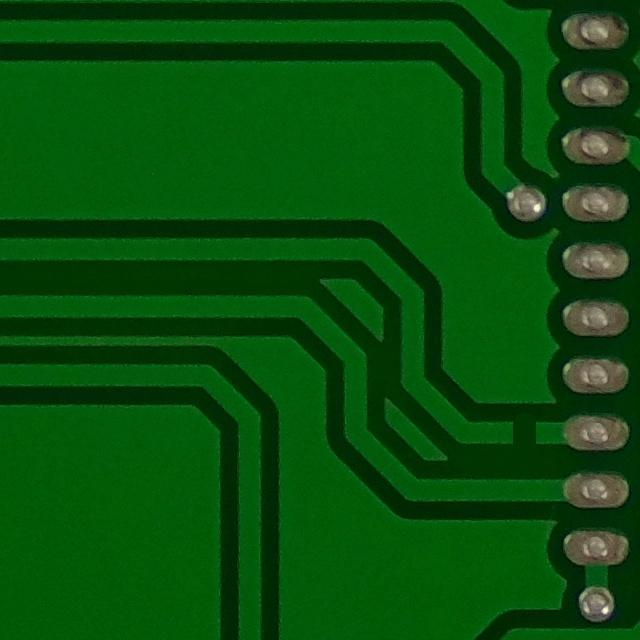open_circuit: (495, 406, 552, 458)
